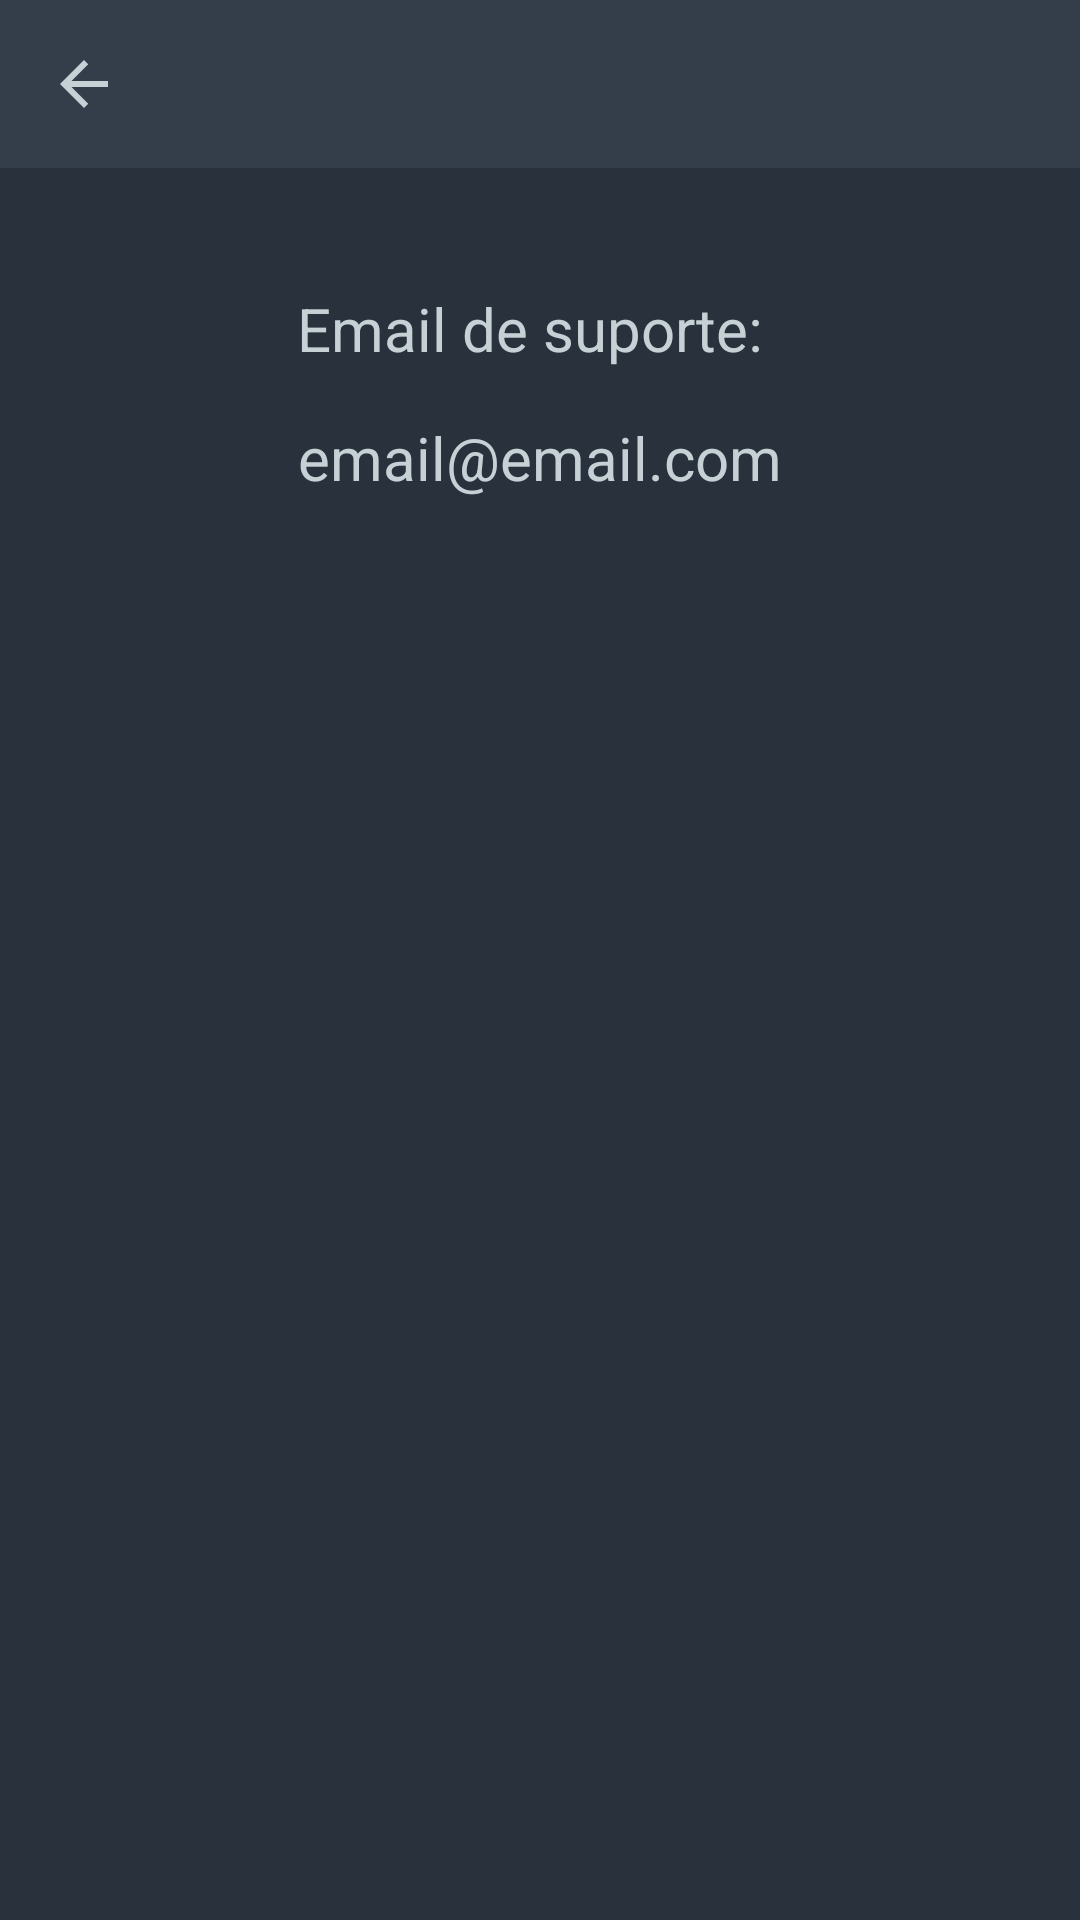

Point at icon controls on the screen. Image size 1080*1920, points as [x,y].
arrow back: [84,84]
